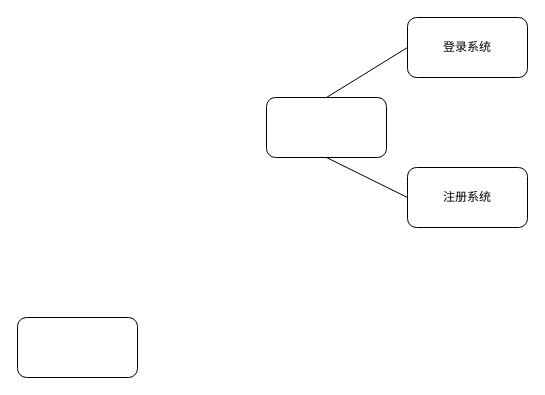
This 545x395 diagram has some shape labels left out. Each missing label, with the centre of its shape:
"Cser_Forum" goes at (77,347).
"登录/注册系统" goes at (326,127).
